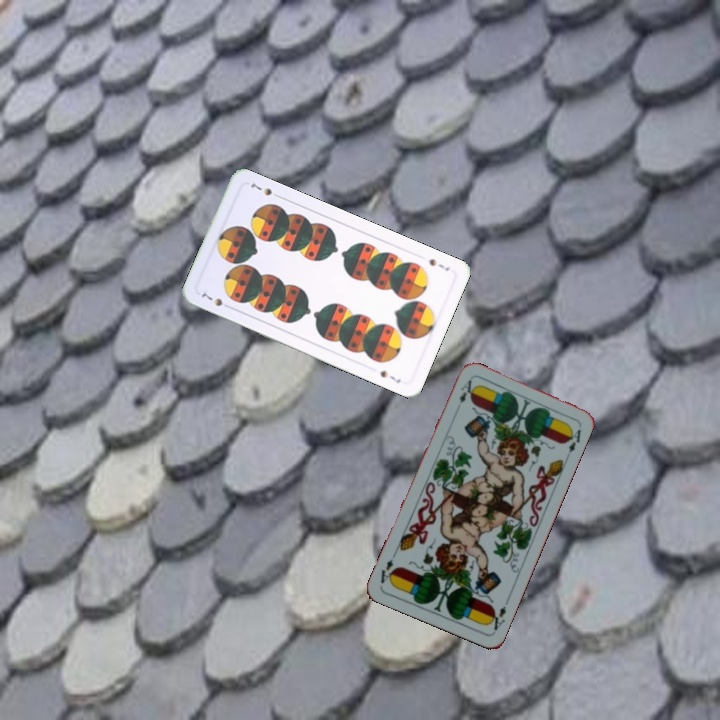EA: (485, 595, 511, 633), (455, 375, 474, 406)
S7: (197, 289, 234, 311), (425, 254, 452, 274)
